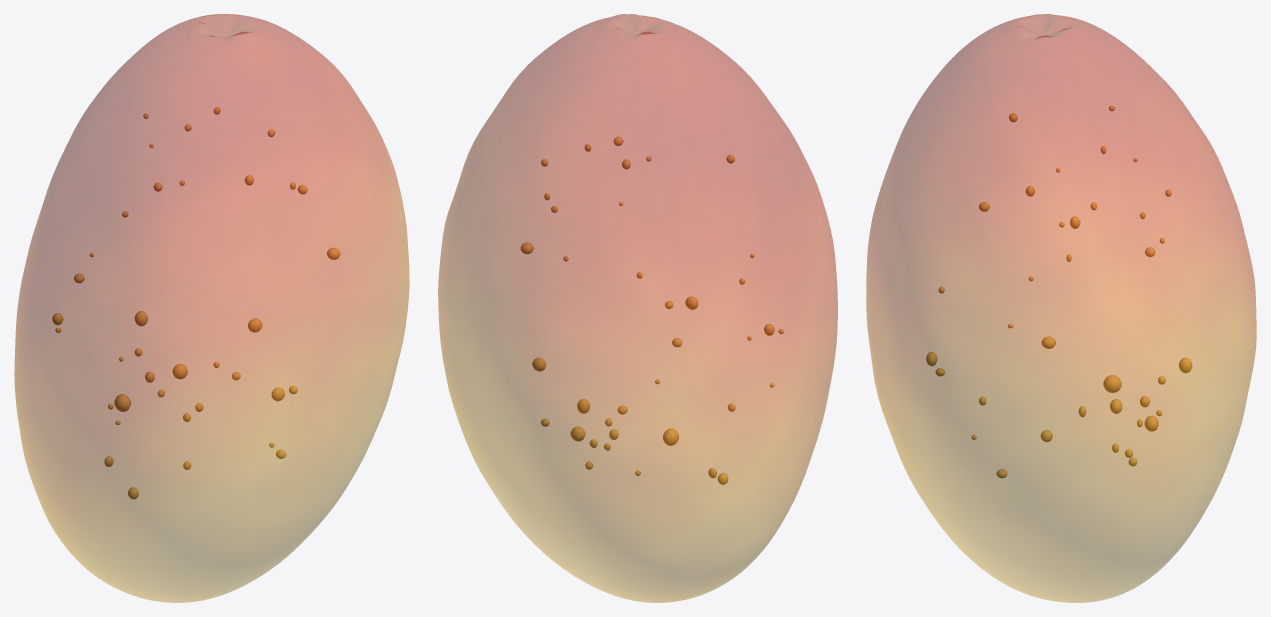
Rendered from resina-ambar.glb.
3 views of the same model, side by side, from view 1: azimuth 30°, elevation 25°; view 2: azimuth 150°, elevation 25°; view 3: azimuth 270°, elevation 25° (orthographic). The views are drawn at different scales.
Visible parts, largest first — view 1: siriguela 05 · resina âmbar, microbolhas; view 2: siriguela 05 · resina âmbar, microbolhas; view 3: siriguela 05 · resina âmbar, microbolhas.
Part boxes in pixels (x1,y1,x2,y2): siriguela 05 · resina âmbar: [14, 14, 409, 602]; microbolhas: [52, 107, 340, 499]; siriguela 05 · resina âmbar: [438, 14, 837, 602]; microbolhas: [520, 136, 783, 484]; siriguela 05 · resina âmbar: [866, 14, 1256, 602]; microbolhas: [926, 105, 1192, 478].
Size of the model in its own units: 1.31 by 1.99 by 1.22.
Materials: 2 (1 with a texture image).
